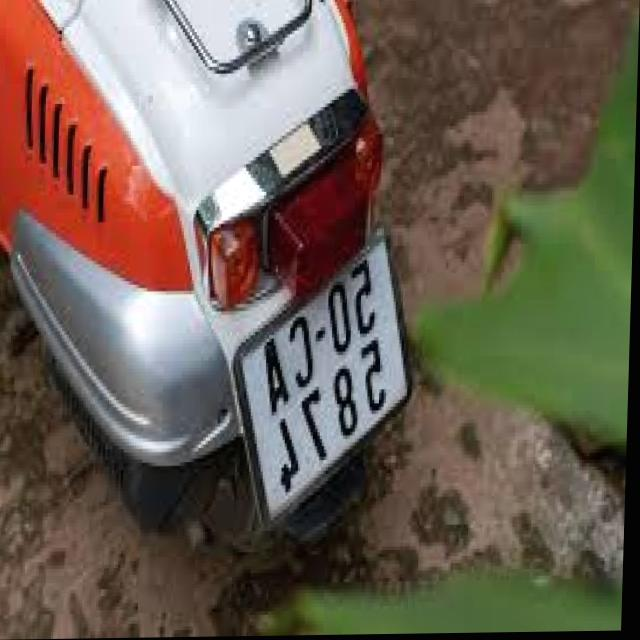bien so: (236, 234, 401, 531)
